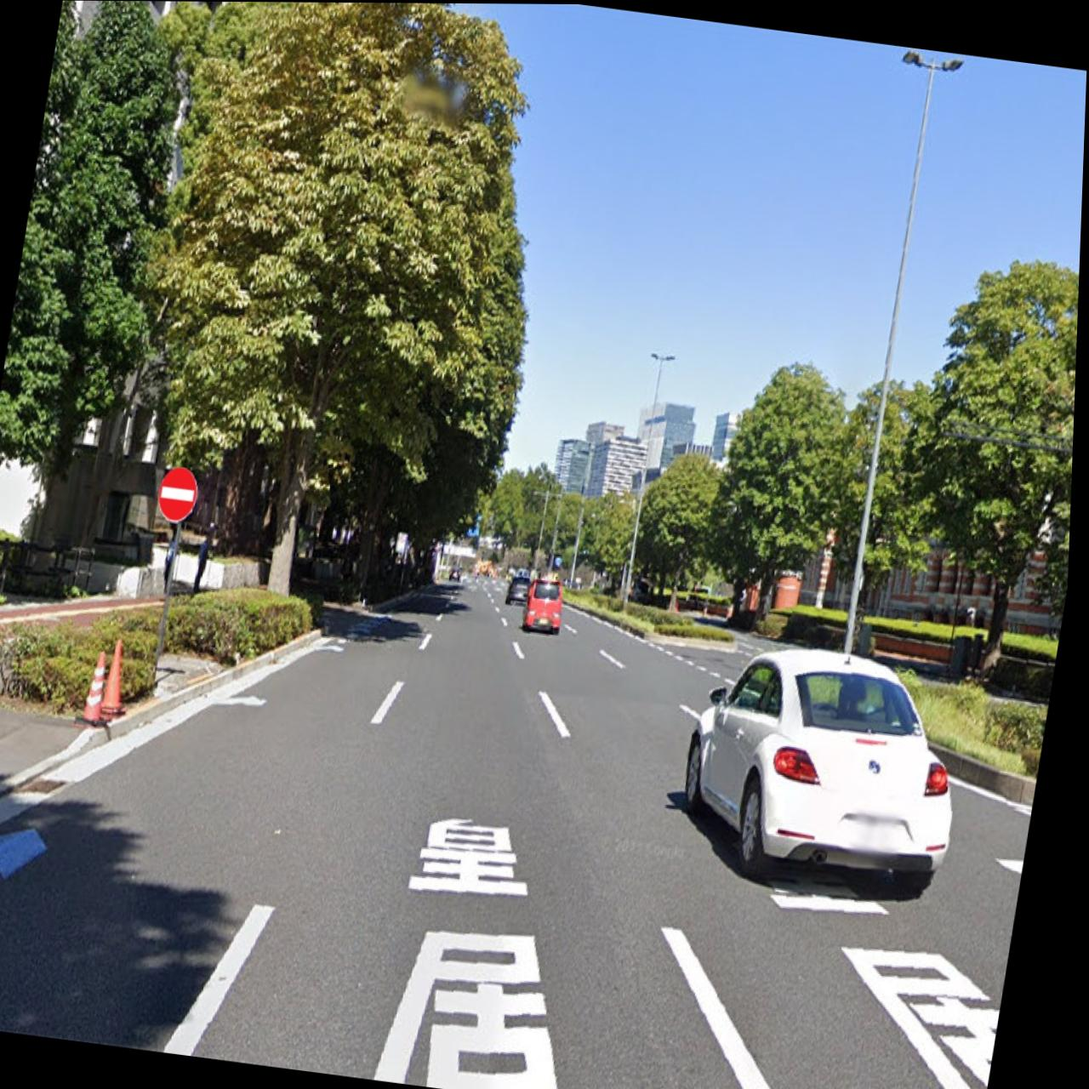barrier: (154, 461, 203, 530)
